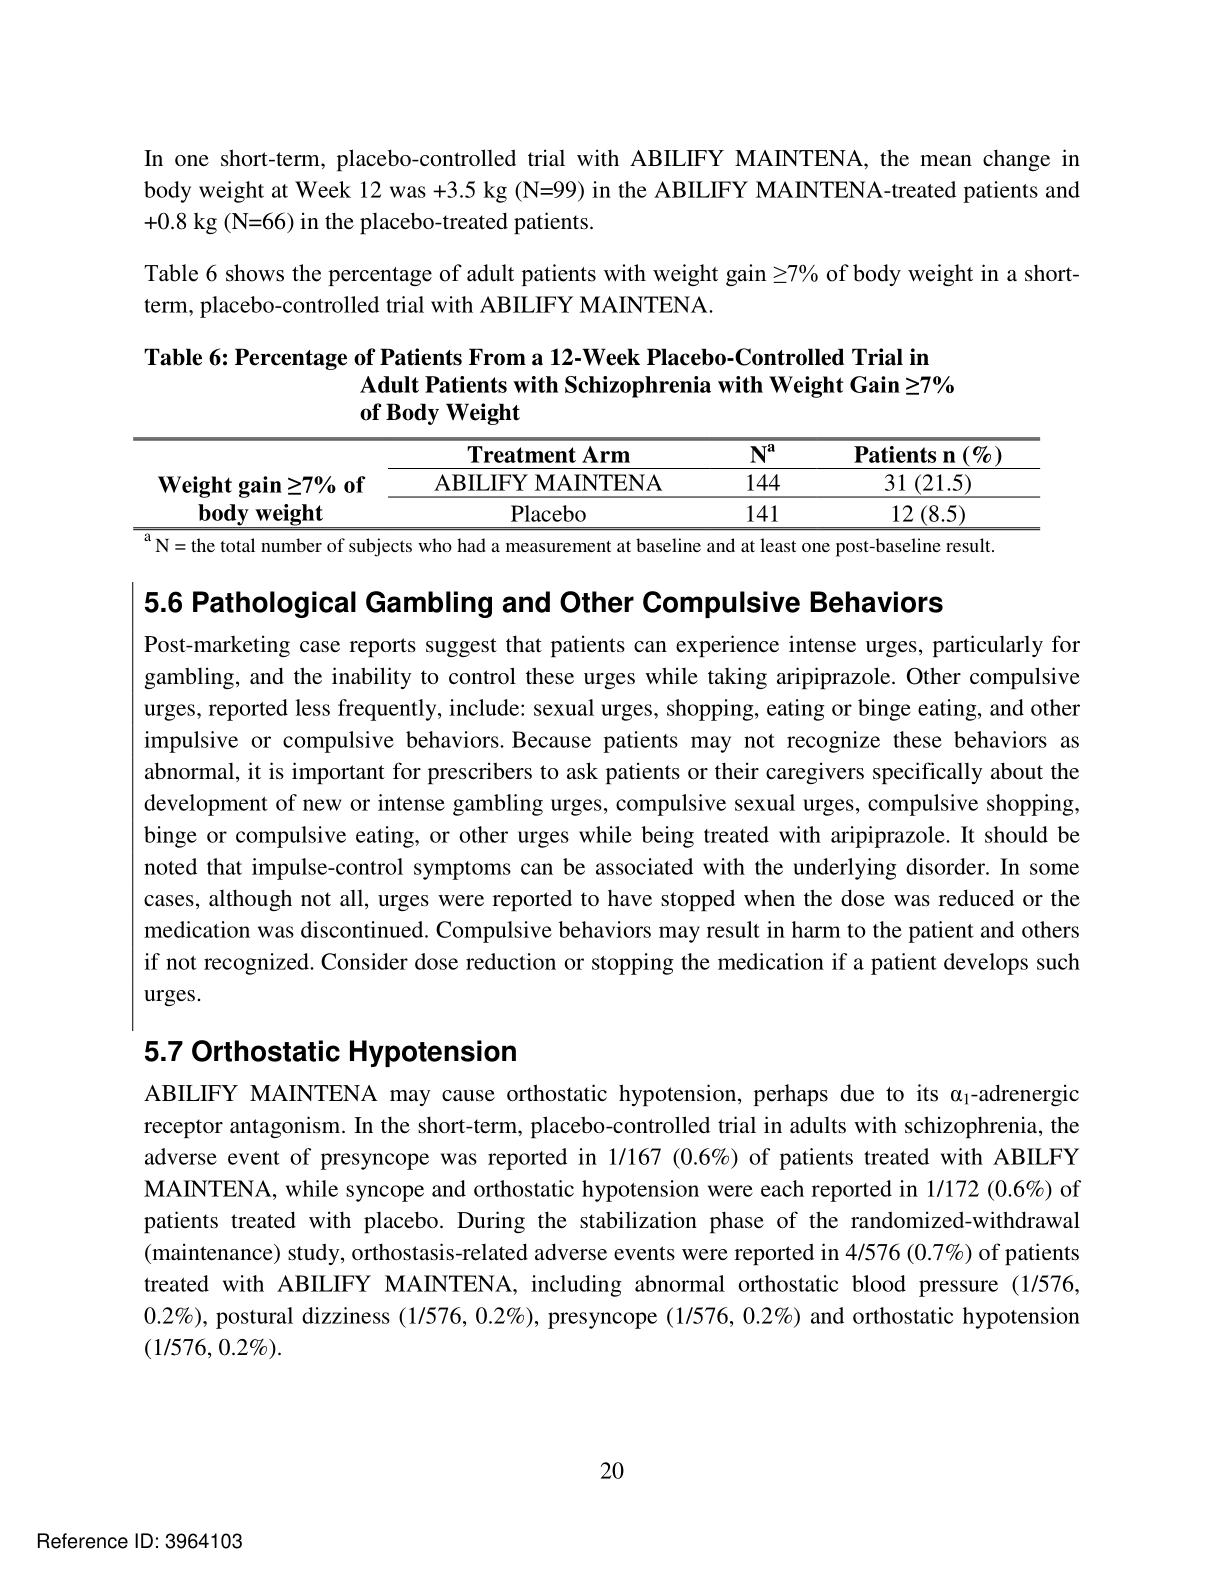partial_lined_merged_cells: (132, 437, 1040, 531)
